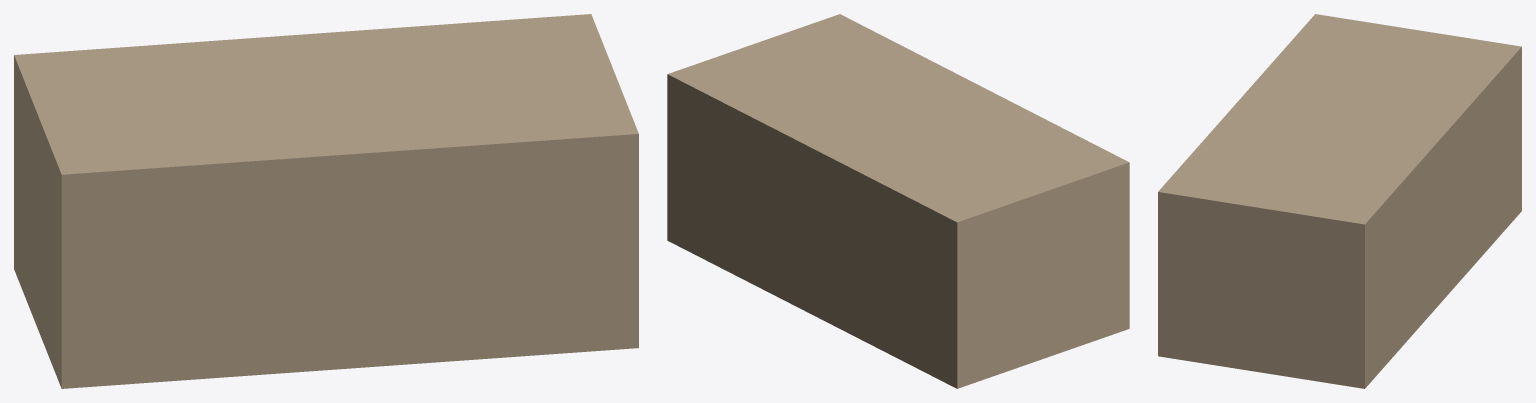
The model's file is bld_99532085.dae.
3 views of the same model, side by side, from view 1: azimuth 30°, elevation 25°; view 2: azimuth 150°, elevation 25°; view 3: azimuth 270°, elevation 25° (orthographic). The views are drawn at different scales.
Parts seen in each view (by area): view 1: bld_99532085; view 2: bld_99532085; view 3: bld_99532085.
Boxes of the visible parts, box(x1,y1,x2,y2) form: bld_99532085: box(14, 14, 638, 388); bld_99532085: box(667, 14, 1129, 388); bld_99532085: box(1158, 14, 1521, 388).
Size of the model in its own units: 21.96 by 16.05 by 8.
